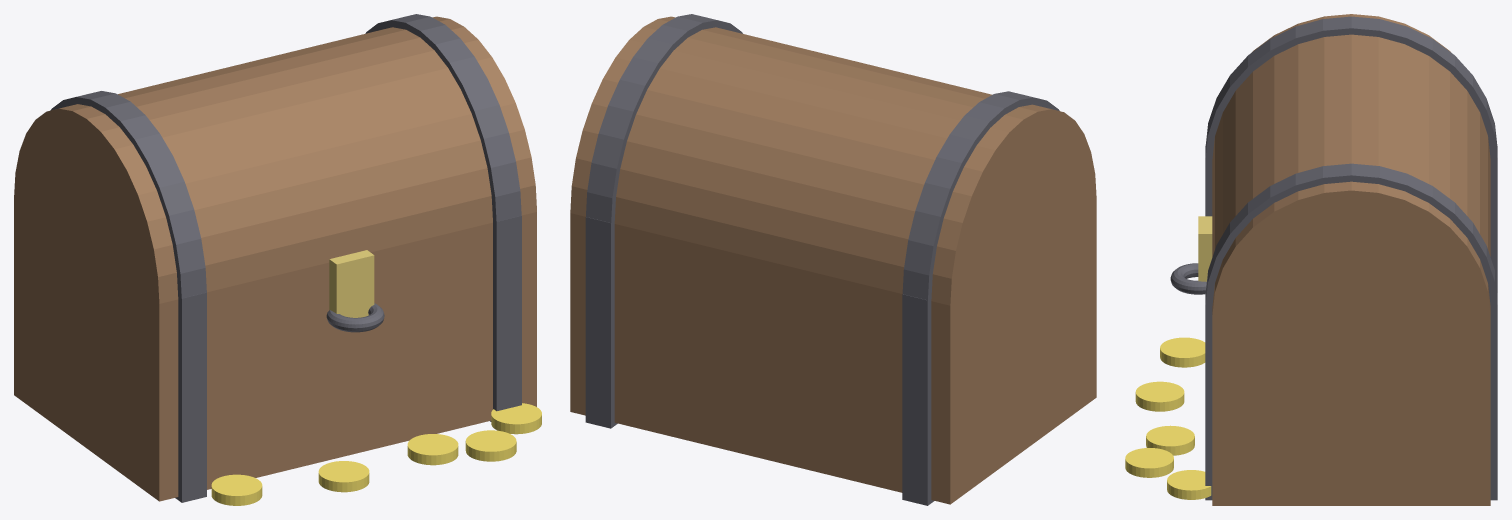
Rendered from loot_chest.glb.
The picture shows the model from 3 angles, left to right: view 1: azimuth 30°, elevation 25°; view 2: azimuth 150°, elevation 25°; view 3: azimuth 270°, elevation 25°; orthographic projection. The views are drawn at different scales.
Visible parts, largest first — view 1: Cylinder, Cube, Cylinder.001, Cylinder.002, Cube.001, Cube.002, Cube.003, Cylinder.003, Cylinder.004, Cylinder.007, Cylinder.006, Cylinder.005 (+1 smaller); view 2: Cylinder, Cube, Cylinder.001, Cylinder.002, Cube.001, Cube.002; view 3: Cylinder, Cube, Cylinder.001, Cylinder.002, Cube.002, Cube.001, Cylinder.006, Cylinder.007, Cylinder.003, Cylinder.004, Cylinder.005, Cube.003 (+1 smaller).
Part boxes in pixels (bbox=[...]): Cylinder: bbox=[14, 16, 536, 392]; Cube: bbox=[14, 198, 536, 501]; Cylinder.001: bbox=[50, 91, 206, 337]; Cylinder.002: bbox=[365, 14, 521, 258]; Cube.001: bbox=[175, 292, 206, 502]; Cube.002: bbox=[490, 215, 521, 421]; Cube.003: bbox=[329, 250, 374, 317]; Cylinder.003: bbox=[211, 474, 262, 505]; Cylinder.004: bbox=[407, 434, 458, 465]; Cylinder.007: bbox=[465, 430, 516, 461]; Cylinder.006: bbox=[318, 461, 369, 492]; Cylinder.005: bbox=[491, 403, 541, 434]; Cylinder: bbox=[570, 16, 1096, 394]; Cube: bbox=[570, 199, 1096, 504]; Cylinder.001: bbox=[902, 91, 1059, 311]; Cylinder.002: bbox=[586, 14, 742, 222]; Cube.001: bbox=[902, 294, 934, 505]; Cube.002: bbox=[585, 217, 617, 428]; Cylinder: bbox=[1212, 14, 1490, 442]; Cube: bbox=[1212, 316, 1490, 505]; Cylinder.001: bbox=[1205, 16, 1497, 198]; Cylinder.002: bbox=[1205, 163, 1497, 345]; Cube.002: bbox=[1205, 293, 1497, 500]; Cube.001: bbox=[1205, 146, 1497, 292]; Cylinder.006: bbox=[1135, 381, 1184, 411]; Cylinder.007: bbox=[1125, 448, 1173, 477]; Cylinder.003: bbox=[1160, 337, 1205, 367]; Cylinder.004: bbox=[1146, 425, 1194, 455]; Cylinder.005: bbox=[1167, 470, 1211, 499]; Cube.003: bbox=[1198, 216, 1212, 281].
Size of the model in its own units: 1.2 by 1.03 by 1.07.
